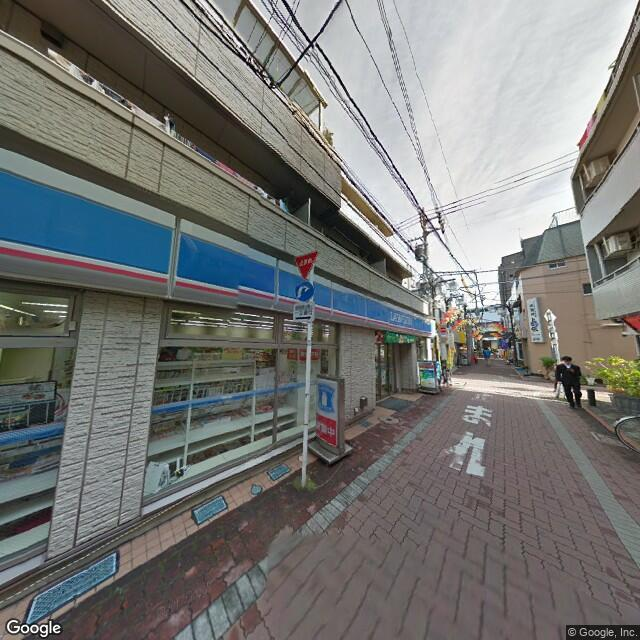lawson: (4, 155, 433, 339)
